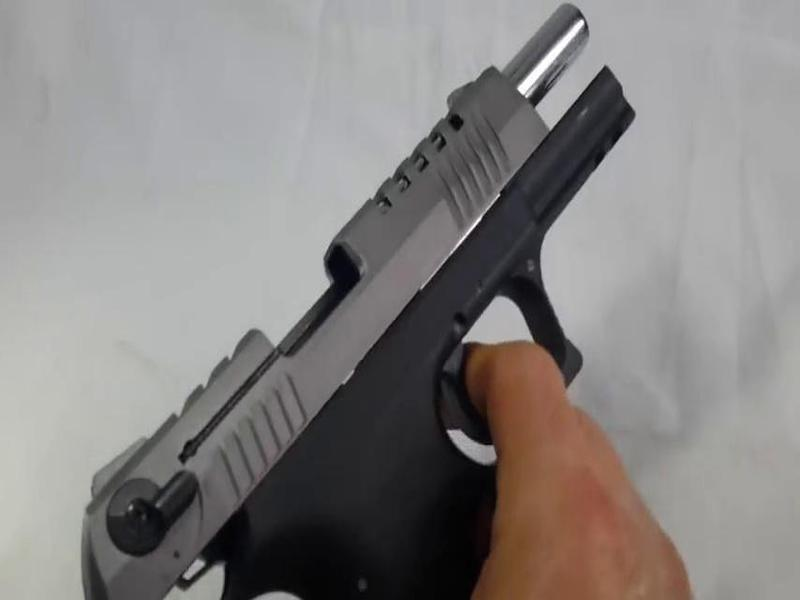Pistola: (73, 1, 650, 593)
